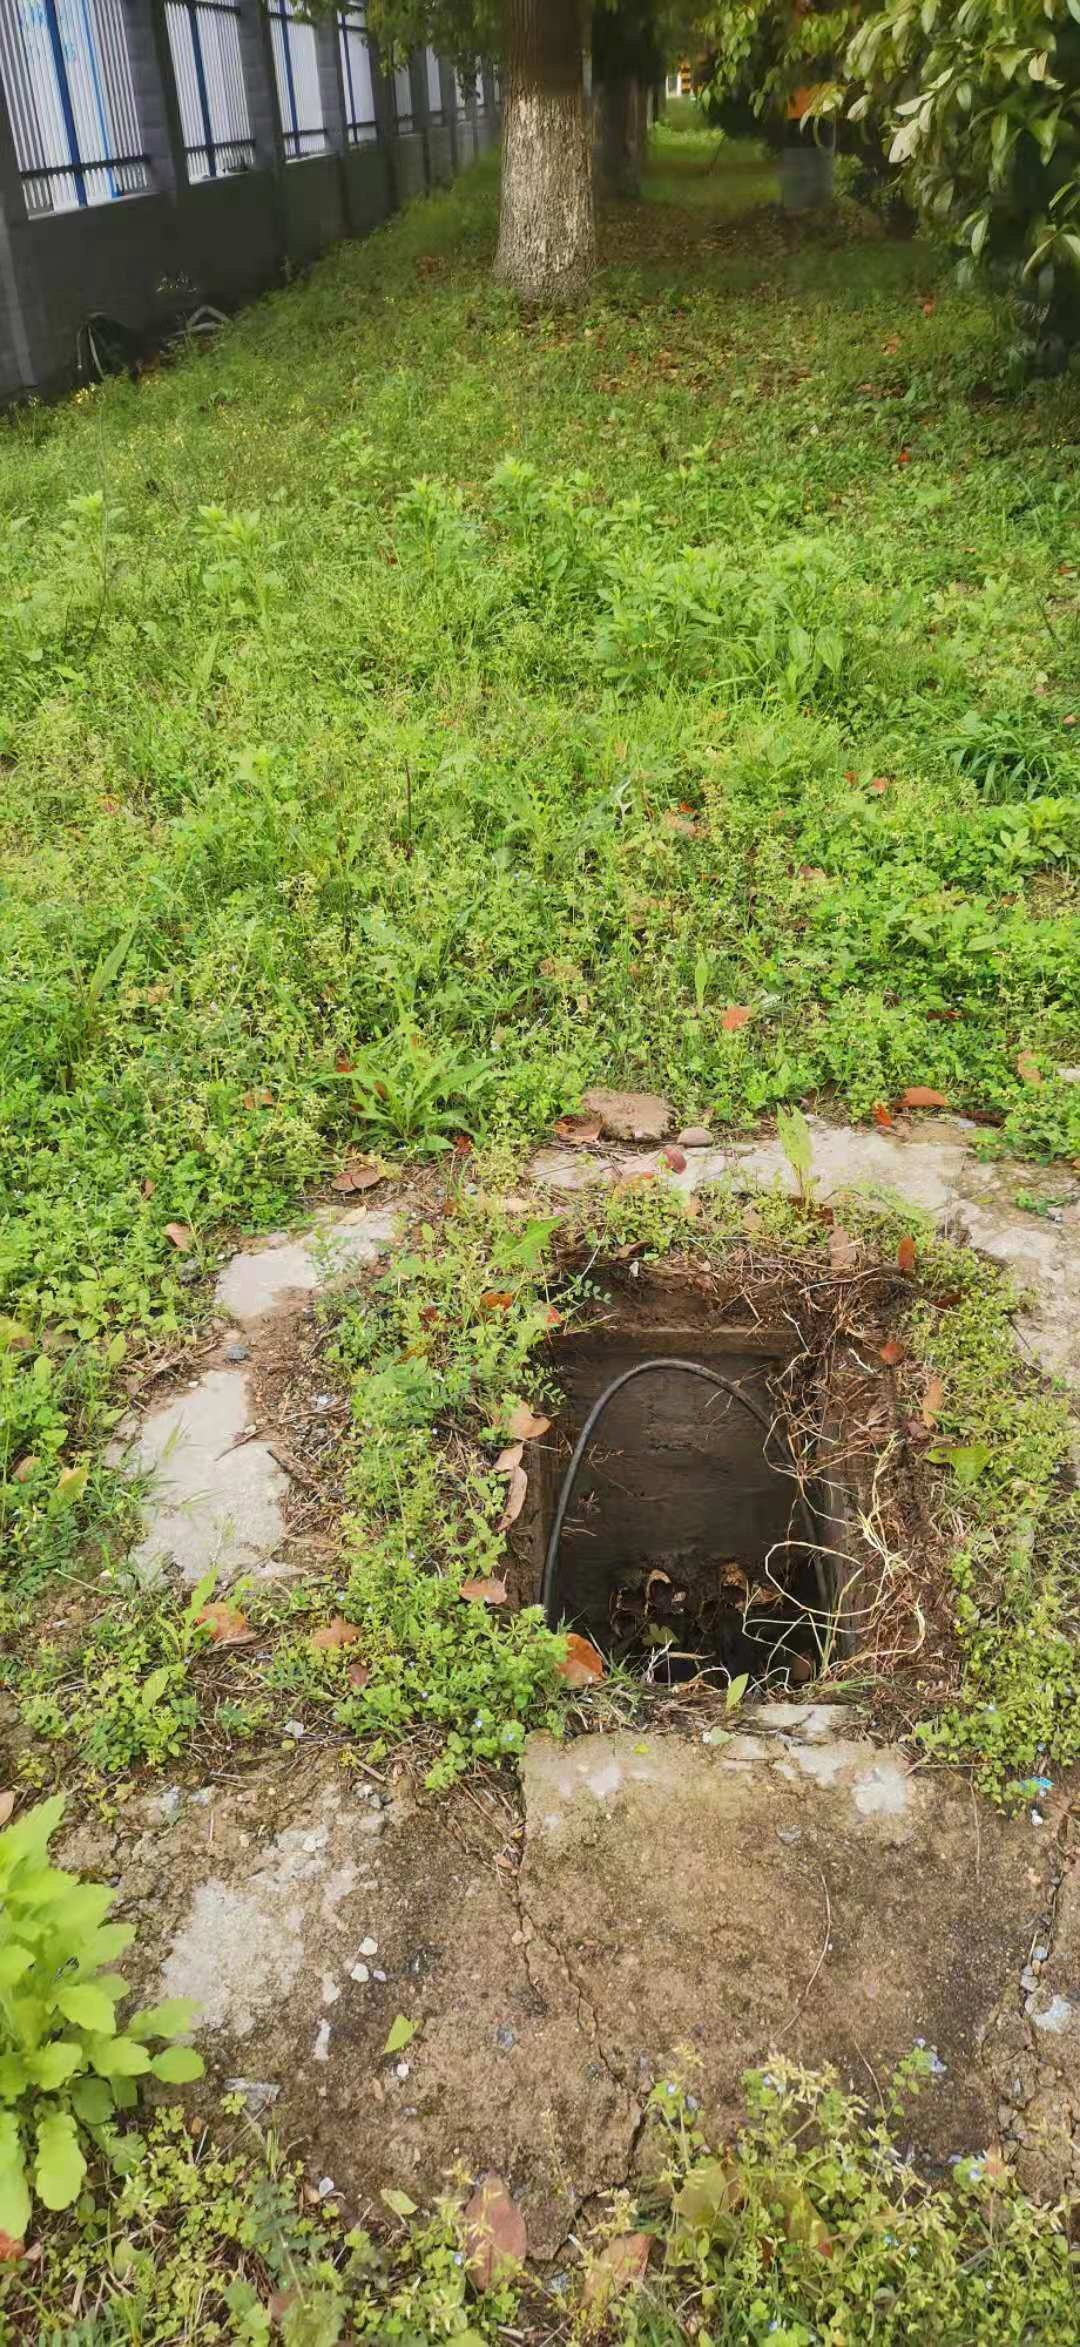lose: (488, 1287, 966, 1718)
